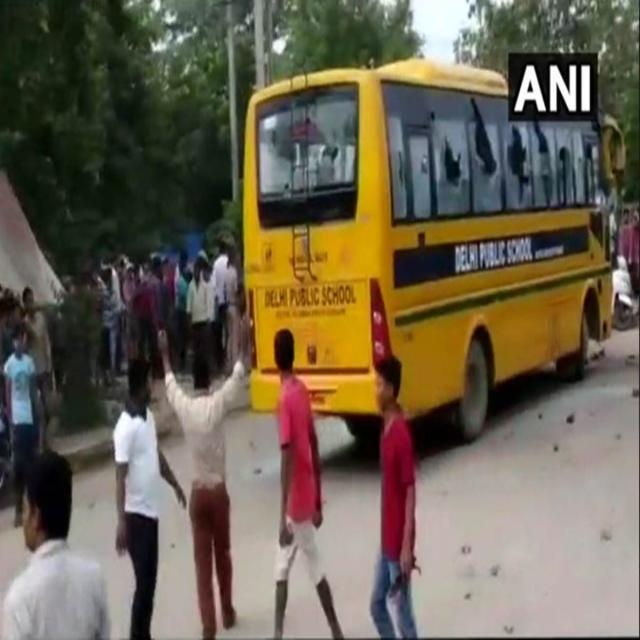bus: (244, 58, 612, 441)
